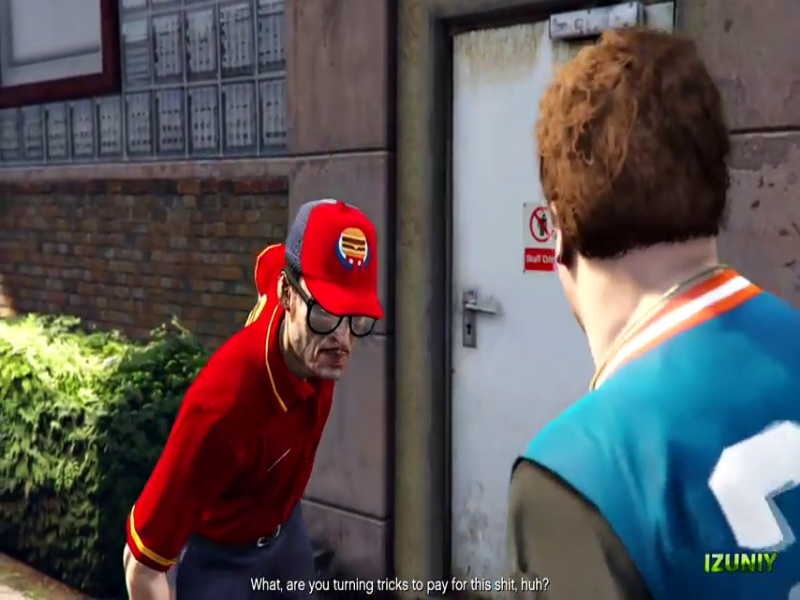licenseplate: (393, 115, 600, 196)
